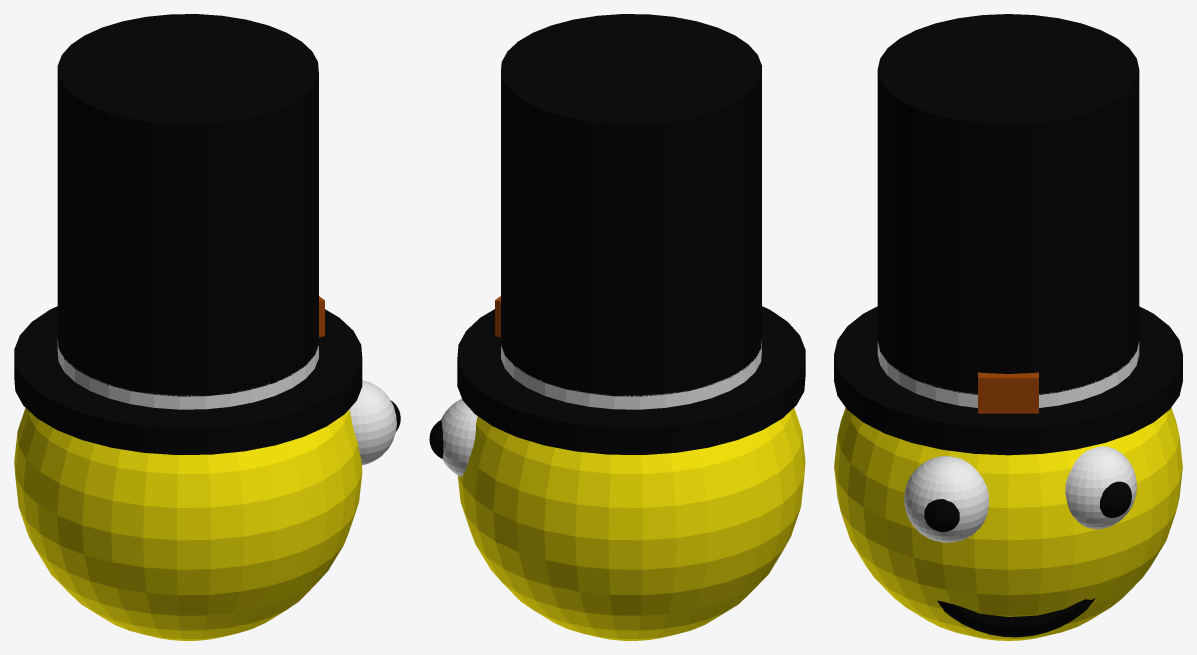
Rendered from Smiley2.glb.
The picture shows the model from 3 angles, left to right: view 1: azimuth 30°, elevation 25°; view 2: azimuth 150°, elevation 25°; view 3: azimuth 270°, elevation 25°; orthographic projection.
Visible parts, largest first — view 1: Cylinder, Sphere, Cylinder.001, Cylinder.002, Sphere.003; view 2: Cylinder, Sphere, Cylinder.001, Cylinder.002, Sphere.002; view 3: Cylinder, Sphere, Cylinder.001, Sphere.003, Sphere.002, Cylinder.002, Torus.001, Cube, Sphere.001, Sphere.004.
Boxes of the visible parts, <box> form: Cylinder: <box>57,14,318,396</box>; Sphere: <box>14,407,362,640</box>; Cylinder.001: <box>14,306,362,454</box>; Cylinder.002: <box>57,339,318,409</box>; Sphere.003: <box>349,380,396,465</box>; Cylinder: <box>501,14,761,396</box>; Sphere: <box>457,408,805,640</box>; Cylinder.001: <box>457,306,805,454</box>; Cylinder.002: <box>501,340,761,409</box>; Sphere.002: <box>441,398,477,476</box>; Cylinder: <box>877,14,1139,394</box>; Sphere: <box>834,407,1182,640</box>; Cylinder.001: <box>834,306,1182,455</box>; Sphere.003: <box>904,456,988,542</box>; Sphere.002: <box>1065,446,1136,529</box>; Cylinder.002: <box>877,341,1139,407</box>; Torus.001: <box>937,598,1095,637</box>; Cube: <box>978,372,1038,413</box>; Sphere.001: <box>924,499,959,532</box>; Sphere.004: <box>1100,481,1131,517</box>.
Bounding box in the file's own units: 4.34 × 7.03 × 4.
